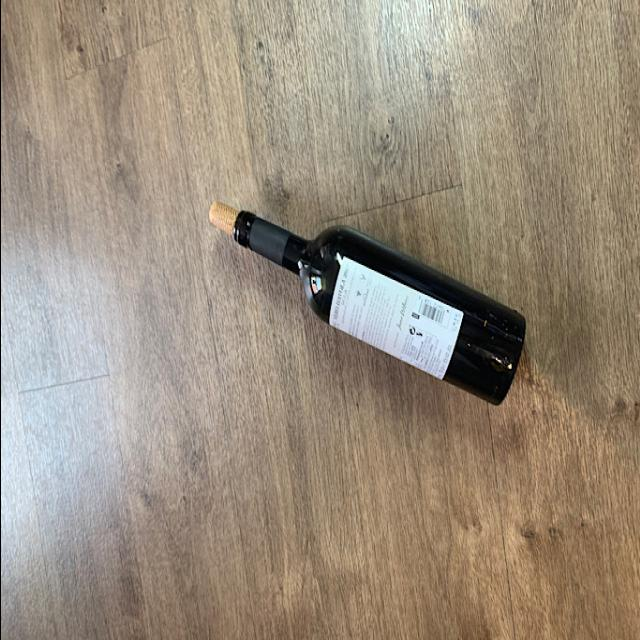litter: (230, 202, 528, 414)
